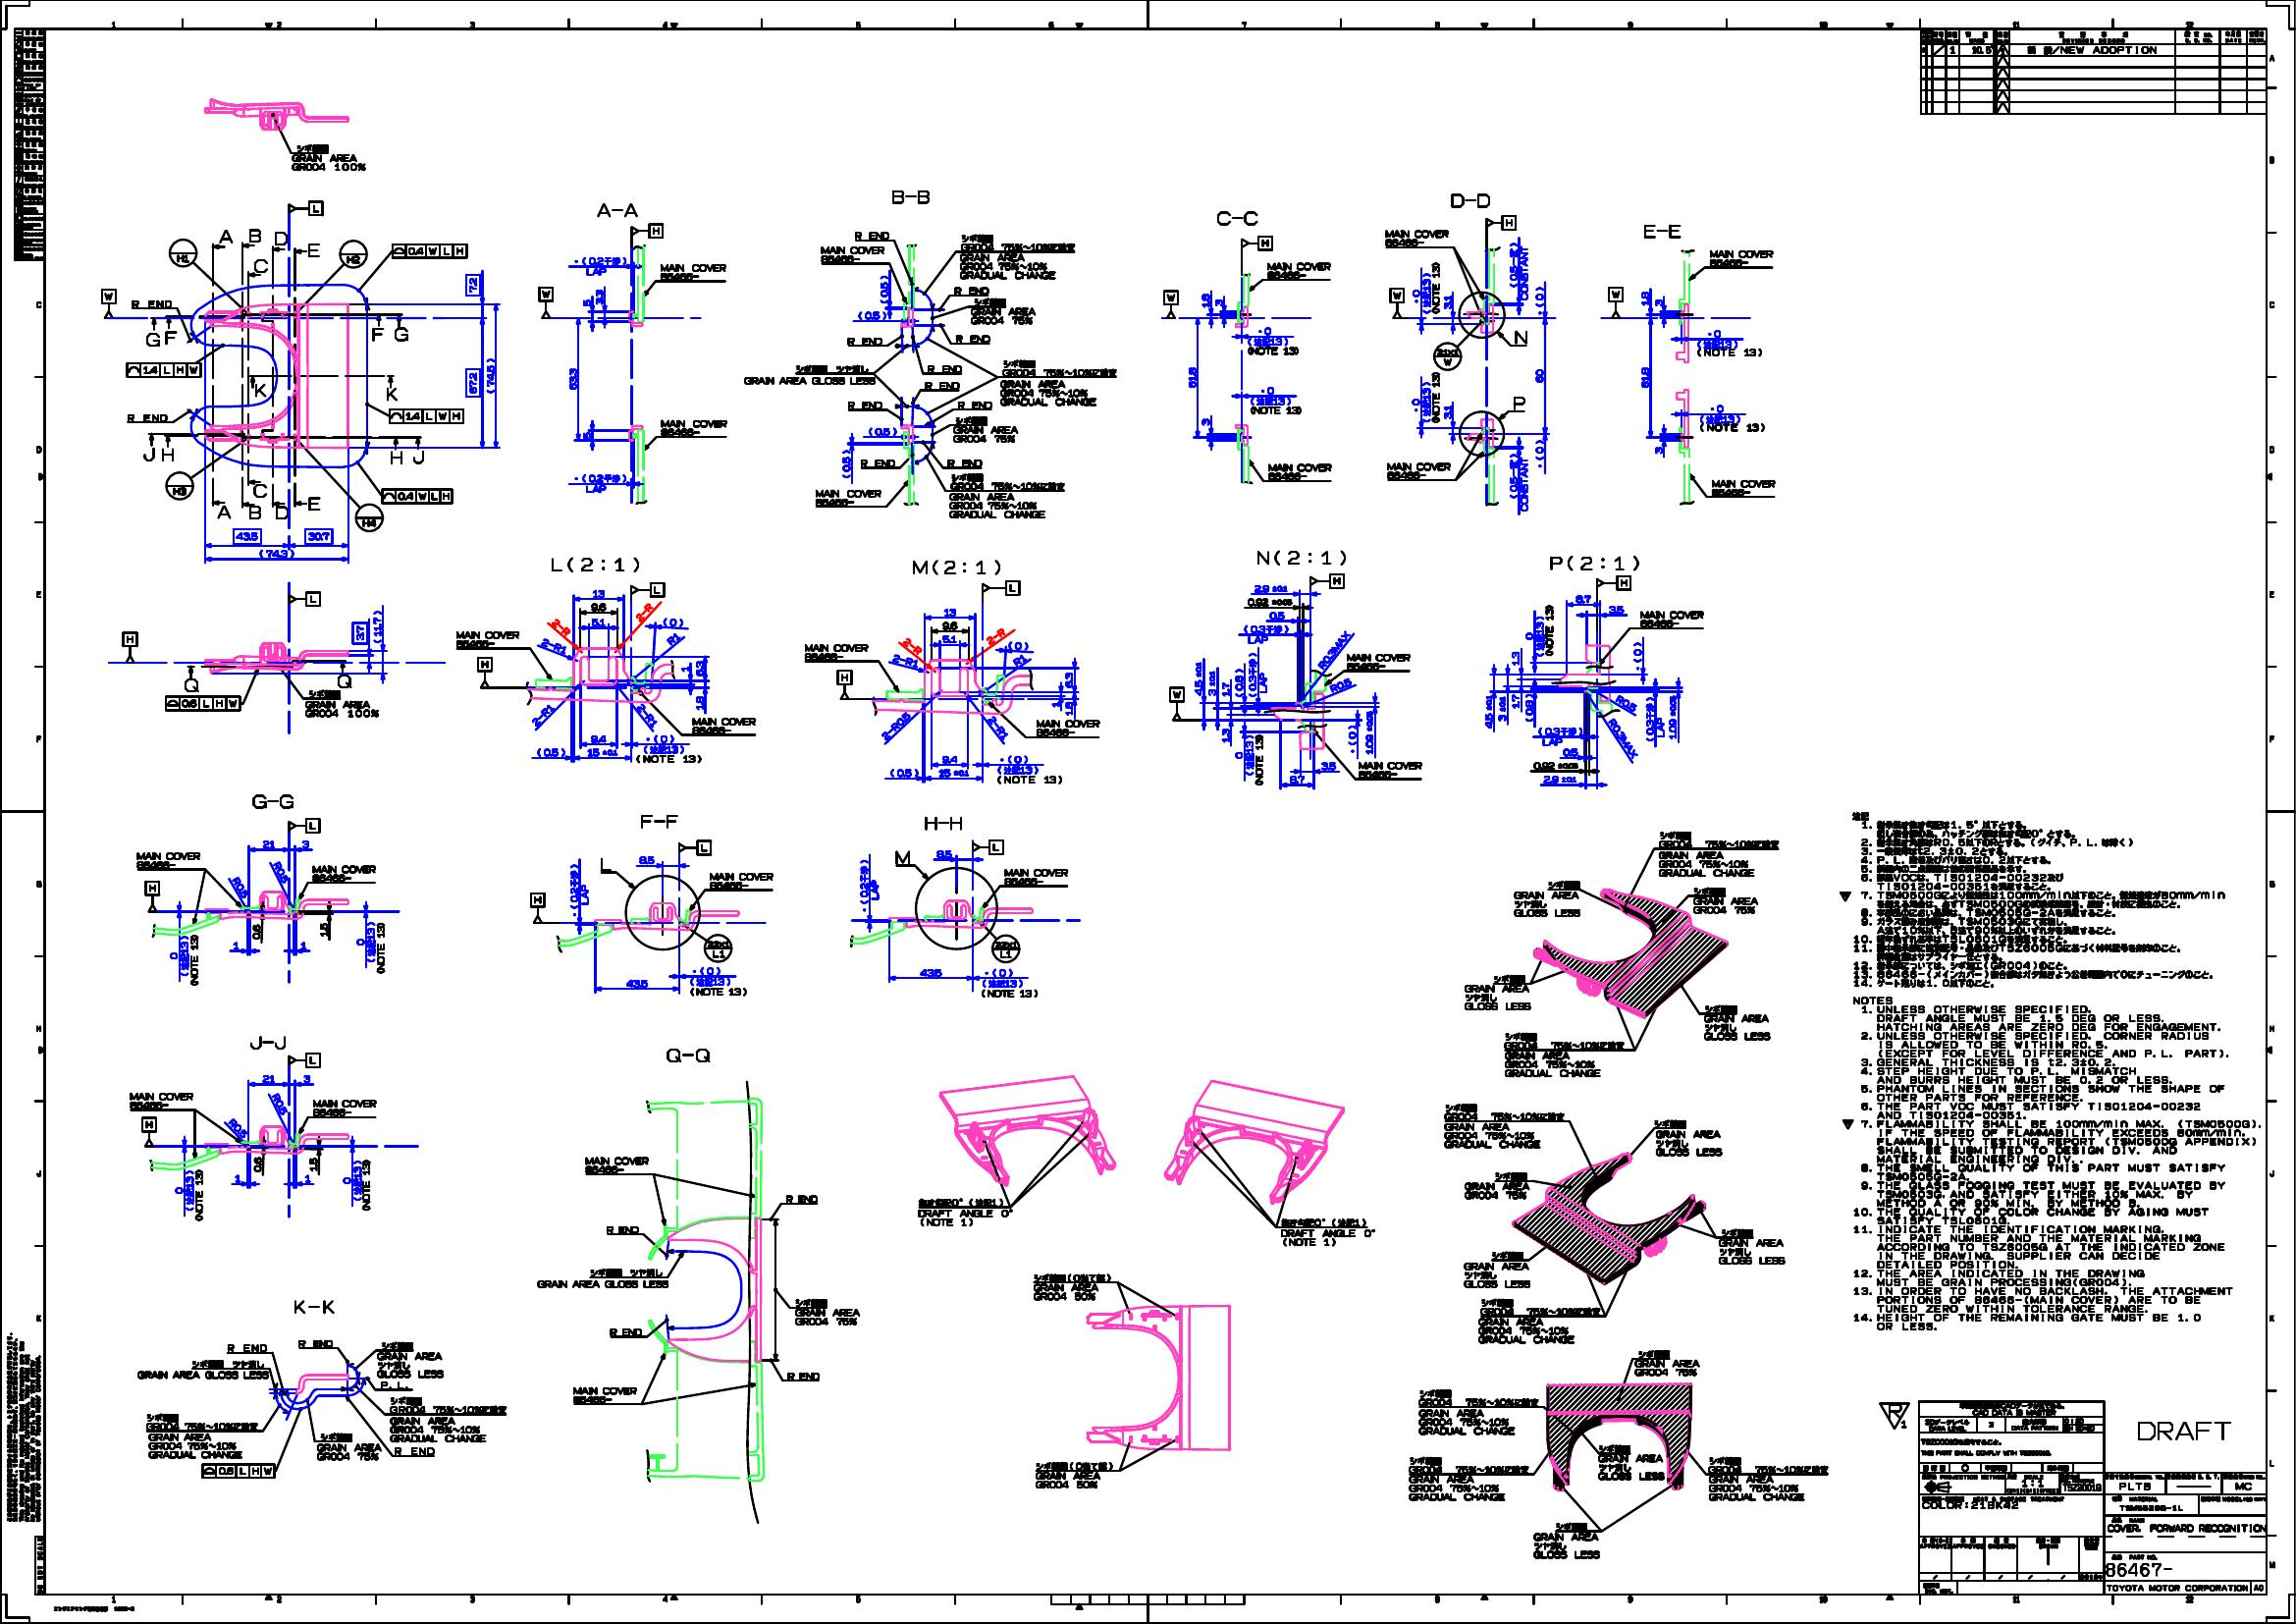anntotation_text: (1836, 991, 2266, 1334), (1834, 808, 2231, 991), (5, 1329, 42, 1522), (1655, 828, 1781, 879), (1416, 1387, 1541, 1438), (1474, 1297, 1602, 1346), (998, 359, 1121, 406), (1442, 1102, 1565, 1149), (1407, 1455, 1530, 1503), (959, 232, 1077, 281), (949, 473, 1068, 520), (1504, 1032, 1623, 1079), (1708, 1455, 1830, 1501), (390, 1396, 511, 1441), (144, 1411, 260, 1459), (740, 362, 878, 387), (536, 1265, 673, 1290), (1279, 1218, 1379, 1248), (915, 1199, 1014, 1229), (1651, 1118, 1723, 1158), (1511, 879, 1581, 919), (1702, 1002, 1773, 1042), (1532, 1520, 1602, 1561), (137, 1359, 269, 1380), (1716, 1227, 1787, 1265), (1462, 974, 1534, 1011), (1463, 1250, 1532, 1288), (2134, 1418, 2235, 1445), (290, 144, 369, 178), (376, 1341, 446, 1378), (1599, 1443, 1667, 1480), (1031, 1272, 1112, 1301), (1463, 1169, 1530, 1202), (968, 295, 1038, 327), (1033, 1461, 1112, 1489), (304, 689, 381, 717), (792, 1295, 861, 1327), (1692, 886, 1758, 917), (1253, 547, 1349, 568), (908, 557, 1003, 578), (546, 555, 641, 576), (950, 415, 1021, 443), (314, 1432, 383, 1461), (1632, 1350, 1699, 1378), (1546, 554, 1643, 573), (566, 861, 594, 917), (1381, 225, 1455, 246), (1706, 248, 1780, 269), (687, 975, 752, 998), (661, 417, 731, 438), (659, 262, 727, 283), (1507, 239, 1530, 302), (1507, 450, 1530, 513), (1639, 610, 1708, 631), (994, 765, 1063, 786), (1346, 650, 1412, 671), (1035, 717, 1101, 738), (632, 743, 704, 763), (1697, 413, 1767, 432), (1263, 262, 1339, 279), (163, 694, 239, 712), (126, 1091, 195, 1111), (1695, 339, 1764, 359), (1356, 759, 1425, 779), (365, 919, 388, 977), (311, 1098, 379, 1118), (819, 244, 885, 264), (134, 851, 200, 870), (571, 1385, 638, 1404), (571, 253, 627, 276), (573, 473, 629, 496), (857, 858, 880, 914), (381, 489, 453, 506), (812, 489, 884, 506), (1709, 478, 1780, 496), (1534, 605, 1556, 657), (803, 642, 871, 659), (689, 715, 757, 733), (179, 933, 202, 986), (583, 1156, 652, 1174), (390, 243, 466, 258), (126, 362, 202, 378), (388, 408, 464, 424), (162, 466, 195, 501), (1265, 462, 1332, 480), (1876, 1399, 1911, 1432), (453, 629, 520, 647), (311, 865, 378, 882), (706, 872, 773, 889), (1003, 866, 1070, 884), (1240, 622, 1288, 647), (202, 1462, 276, 1478), (1212, 206, 1263, 228), (978, 979, 1038, 998), (1249, 395, 1303, 417), (183, 1167, 204, 1222), (1384, 462, 1449, 480), (337, 237, 371, 271), (169, 236, 202, 269), (353, 501, 386, 534), (1444, 190, 1497, 211), (350, 1158, 371, 1211), (1430, 339, 1463, 371), (703, 932, 734, 965), (1247, 649, 1268, 698), (1423, 262, 1442, 315), (1421, 371, 1440, 424), (1537, 726, 1583, 747), (1644, 696, 1665, 742), (1245, 337, 1300, 355), (1245, 735, 1263, 789), (248, 791, 297, 810), (991, 933, 1021, 963), (662, 1048, 711, 1065), (921, 814, 964, 831), (246, 1033, 290, 1051), (33, 1534, 46, 1596), (885, 188, 933, 204), (1641, 223, 1688, 239), (290, 1299, 337, 1315), (639, 812, 678, 831), (53, 1605, 137, 1613), (594, 202, 641, 216), (288, 199, 325, 216), (1309, 571, 1346, 589), (980, 580, 1021, 596), (678, 838, 710, 858), (845, 334, 887, 348), (950, 283, 993, 297), (538, 286, 555, 320), (1240, 236, 1274, 253), (288, 817, 321, 835), (1595, 575, 1632, 591), (629, 582, 666, 598), (141, 1116, 160, 1146), (529, 891, 546, 923), (288, 1051, 320, 1069), (1170, 684, 1184, 722), (1484, 214, 1518, 230), (836, 666, 852, 700), (288, 591, 321, 606), (971, 838, 1005, 854), (1163, 290, 1180, 320), (474, 657, 492, 687), (854, 228, 891, 243), (121, 631, 137, 663), (144, 882, 160, 914), (857, 455, 898, 468), (783, 1192, 819, 1206), (926, 362, 964, 374), (845, 399, 884, 411), (100, 288, 116, 318), (921, 380, 964, 390), (126, 413, 169, 424), (1390, 286, 1404, 318), (1607, 288, 1623, 316), (227, 1343, 269, 1353), (631, 223, 661, 237), (954, 334, 993, 344), (945, 457, 984, 468), (128, 299, 174, 308), (392, 1446, 437, 1455), (604, 1223, 641, 1234), (608, 1327, 645, 1338), (783, 1371, 820, 1381), (388, 448, 406, 468), (393, 325, 411, 344), (336, 673, 355, 691), (892, 849, 912, 866), (297, 1338, 336, 1346), (956, 399, 993, 408), (216, 228, 234, 246), (246, 225, 264, 243), (271, 230, 288, 248), (249, 258, 267, 276), (160, 446, 177, 464), (139, 446, 156, 464), (249, 482, 267, 499), (274, 504, 292, 522), (307, 496, 325, 513), (411, 448, 429, 466), (383, 387, 401, 404), (367, 327, 385, 344), (253, 383, 271, 401), (216, 503, 232, 522), (379, 1380, 413, 1388), (306, 243, 321, 260), (163, 329, 179, 346), (144, 332, 160, 350), (248, 504, 264, 522), (1514, 329, 1530, 346), (183, 677, 199, 694), (1511, 392, 1525, 411)
dimension_text: (1597, 733, 1650, 745), (1307, 643, 1360, 656), (1667, 692, 1679, 742), (1245, 596, 1296, 606), (1530, 759, 1579, 770), (464, 367, 481, 395), (350, 622, 371, 645), (483, 357, 495, 395), (1541, 773, 1578, 786), (304, 529, 332, 545), (1231, 666, 1245, 698), (875, 721, 917, 731), (371, 608, 383, 643), (1191, 661, 1203, 696), (232, 529, 262, 543), (1365, 708, 1374, 756), (631, 708, 664, 721), (878, 272, 891, 306), (840, 446, 852, 480), (998, 752, 1031, 765), (1251, 582, 1289, 592), (585, 747, 617, 759), (866, 425, 898, 438), (1483, 692, 1493, 729), (936, 766, 973, 777), (564, 366, 578, 392), (1184, 364, 1198, 390), (527, 710, 557, 722), (545, 620, 574, 633), (856, 309, 885, 322), (464, 274, 480, 297), (887, 766, 921, 777), (632, 605, 661, 617), (1534, 286, 1546, 315), (1326, 680, 1354, 692), (256, 548, 295, 557), (982, 967, 1014, 977), (690, 965, 722, 975), (538, 642, 569, 652), (1632, 640, 1643, 671), (982, 721, 1014, 731), (536, 747, 566, 758), (645, 733, 675, 743), (1534, 438, 1544, 468), (1523, 692, 1534, 722), (624, 979, 652, 990), (1639, 364, 1650, 392), (1497, 694, 1507, 722), (982, 631, 1010, 642), (1347, 724, 1356, 758), (919, 967, 945, 977), (662, 617, 689, 627), (227, 882, 253, 893), (267, 866, 293, 877), (223, 1123, 249, 1134), (891, 656, 917, 666), (1207, 668, 1216, 698), (269, 1098, 293, 1109), (251, 1155, 264, 1176), (1256, 383, 1277, 395), (1318, 759, 1339, 772), (1008, 640, 1029, 652), (592, 288, 606, 306), (1708, 402, 1727, 415), (588, 599, 606, 612), (249, 923, 262, 940), (307, 1156, 320, 1174), (1607, 603, 1625, 615), (1614, 700, 1639, 708), (899, 642, 924, 650), (1442, 295, 1453, 315), (1534, 366, 1544, 385), (1574, 592, 1593, 603), (1267, 610, 1286, 620), (940, 633, 959, 643), (940, 752, 959, 763), (692, 694, 704, 710), (694, 659, 704, 677), (588, 733, 606, 743), (664, 634, 682, 645), (1256, 325, 1274, 336), (1411, 395, 1421, 413), (1641, 290, 1651, 308), (1706, 327, 1723, 337), (1063, 671, 1073, 689), (1511, 649, 1520, 668), (1560, 747, 1579, 756), (590, 587, 606, 598), (1219, 680, 1230, 696), (942, 606, 957, 617), (942, 620, 957, 631), (1012, 656, 1028, 666), (638, 856, 655, 865), (1442, 404, 1451, 422), (1511, 692, 1520, 710), (1288, 773, 1305, 782), (1065, 700, 1073, 717), (936, 849, 954, 858), (260, 838, 274, 849), (1198, 417, 1212, 427), (590, 617, 606, 626), (320, 923, 329, 939), (1655, 295, 1664, 311), (1221, 726, 1230, 742), (1412, 286, 1419, 306), (302, 1172, 313, 1185), (1651, 445, 1664, 455), (260, 1074, 274, 1083), (1202, 290, 1209, 308), (300, 838, 311, 849), (355, 937, 365, 947), (341, 1174, 351, 1185), (232, 1172, 242, 1183), (172, 1185, 183, 1195), (580, 295, 590, 306), (1051, 700, 1061, 710), (678, 664, 690, 673), (169, 949, 177, 961), (1214, 295, 1223, 308), (230, 940, 241, 949), (1523, 629, 1532, 640), (1233, 750, 1244, 759), (299, 940, 307, 949), (302, 1074, 311, 1083), (581, 431, 590, 439)
object: (643, 1097, 766, 1483), (188, 281, 372, 468), (1532, 886, 1732, 1021), (1507, 1151, 1708, 1285), (1161, 1076, 1349, 1204), (1084, 1301, 1233, 1454), (936, 1072, 1121, 1190), (1544, 1380, 1692, 1492), (866, 656, 1033, 719), (848, 895, 1035, 947), (553, 900, 740, 953), (146, 1123, 351, 1171), (153, 889, 350, 939), (1462, 246, 1498, 504), (527, 643, 673, 701), (1669, 250, 1699, 504), (202, 97, 350, 132), (204, 640, 350, 675), (898, 243, 917, 506), (627, 244, 646, 504), (1267, 668, 1326, 750), (1555, 642, 1618, 717), (1233, 272, 1251, 485), (278, 1371, 369, 1411)
title_block: (1917, 1401, 2266, 1596), (1918, 28, 2268, 116), (12, 26, 44, 262)
